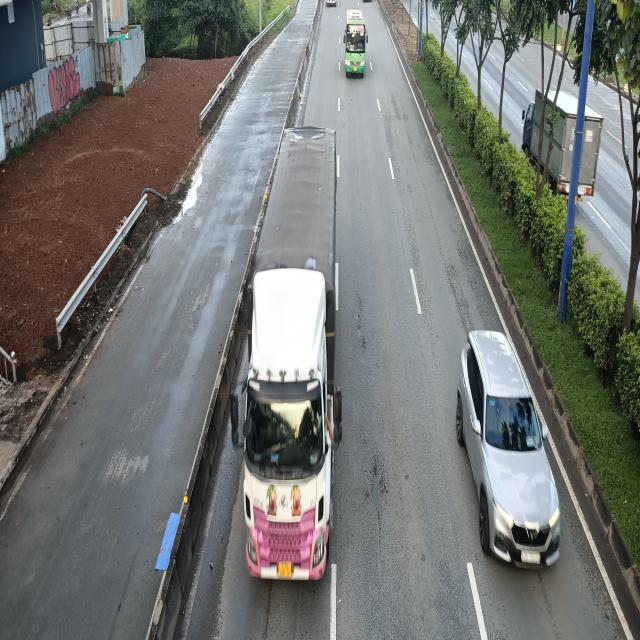car: (452, 328, 557, 568)
coach: (343, 10, 368, 80)
truck: (228, 124, 345, 584)
